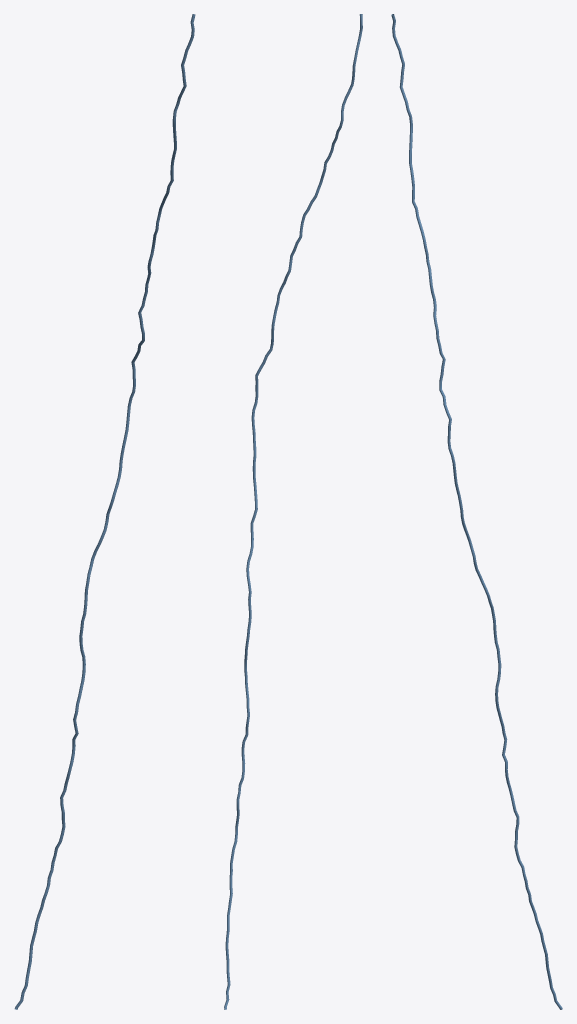
File: sweep39.fbx
The picture shows the model from 3 angles, left to right: view 1: azimuth 90°, elevation 25°; view 2: azimuth 150°, elevation 25°; view 3: azimuth 270°, elevation 25°; orthographic projection. The views are drawn at different scales.
Parts seen in each view (by area): view 1: sweep39; view 2: sweep39; view 3: sweep39.
Boxes of the visible parts, x1,y1,x2,y2 form: sweep39: [14, 14, 195, 1009]; sweep39: [224, 14, 362, 1009]; sweep39: [391, 14, 562, 1009].
Size of the model in its own units: 0.6484 by 7.19 by 1.15.
